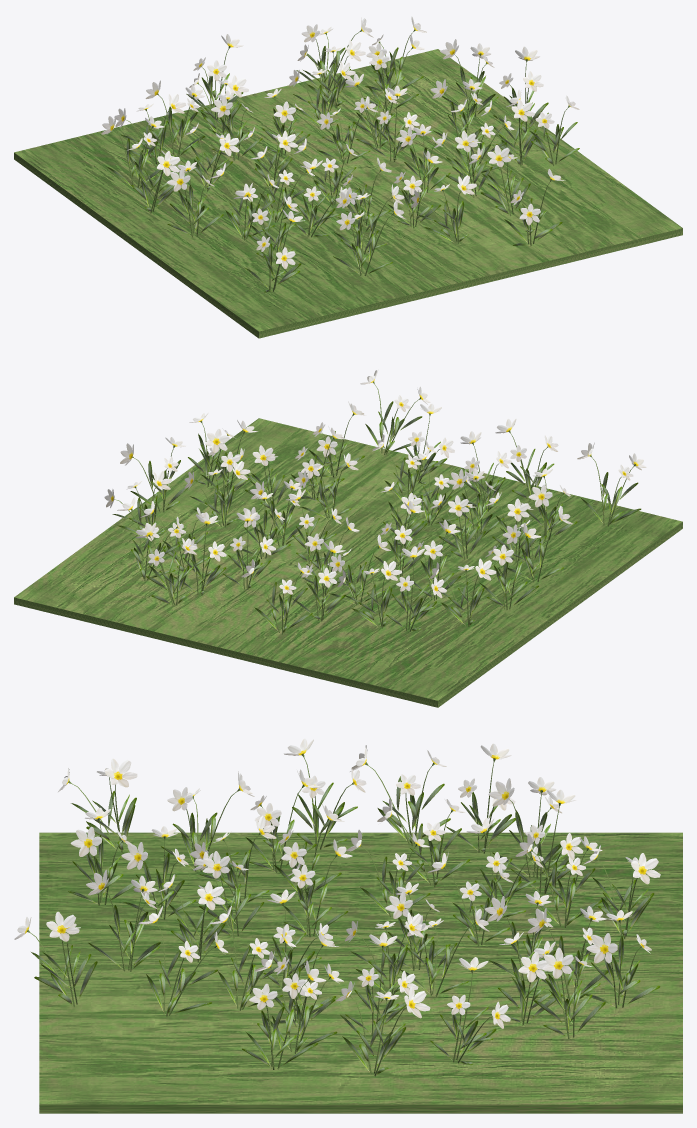
File: flowers.glb
3 views of the same model, one above another, from view 1: azimuth 30°, elevation 25°; view 2: azimuth 150°, elevation 25°; view 3: azimuth 270°, elevation 25° (orthographic). The views are drawn at different scales.
Visible parts, largest first — view 1: Cube_0, tree_3; view 2: Cube_0, tree_3; view 3: Cube_0, tree_3.
Boxes of the visible parts, x1,y1,x2,y2 form: Cube_0: [14, 49, 682, 338]; tree_3: [101, 16, 579, 292]; Cube_0: [14, 418, 682, 707]; tree_3: [104, 369, 646, 634]; Cube_0: [39, 832, 682, 1113]; tree_3: [14, 738, 660, 1076].
Bounding box in the file's own units: 8.72 × 1.83 × 9.07.
Materials: 4 (4 with a texture image).
